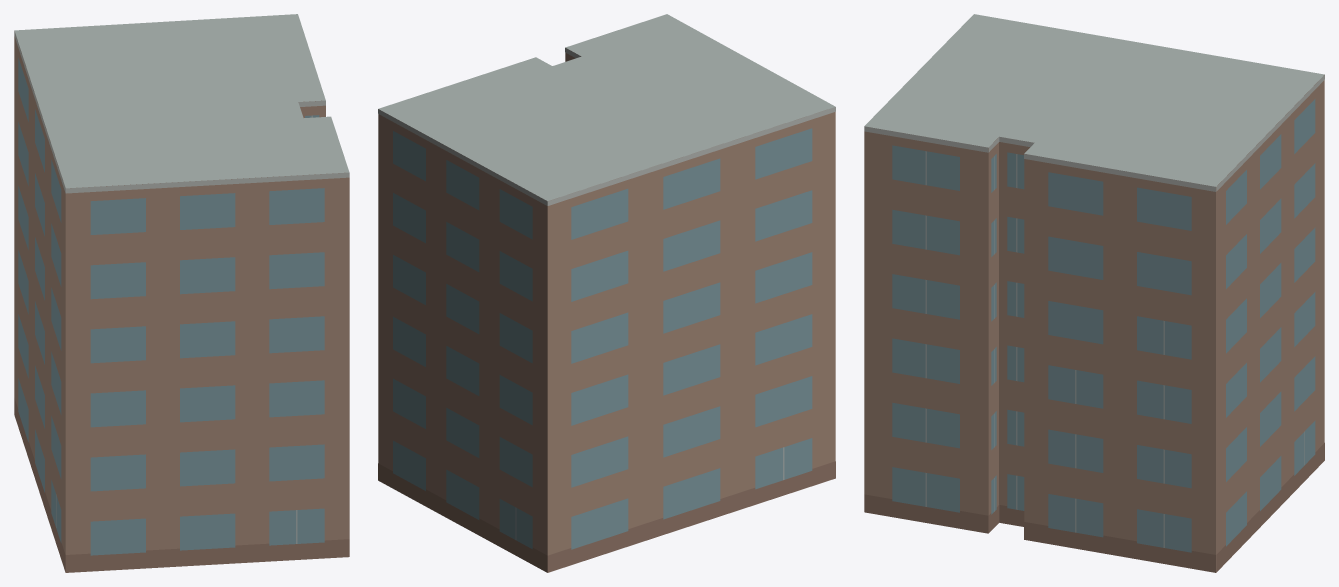
The model's file is survey-upis-32526403.glb.
3 renders of one model, left to right at view 1: azimuth 30°, elevation 25°; view 2: azimuth 150°, elevation 25°; view 3: azimuth 270°, elevation 25°, orthographic. The views are drawn at different scales.
Parts seen in each view (by area): view 1: survey-upis-32526403.tmp; view 2: survey-upis-32526403.tmp; view 3: survey-upis-32526403.tmp.
Boxes of the visible parts, left/top/right/bottom form: survey-upis-32526403.tmp: left=14, top=14, right=349, bottom=572; survey-upis-32526403.tmp: left=378, top=14, right=835, bottom=572; survey-upis-32526403.tmp: left=864, top=14, right=1324, bottom=572.
Bounding box in the file's own units: 17.59 × 18.3 × 19.8.
